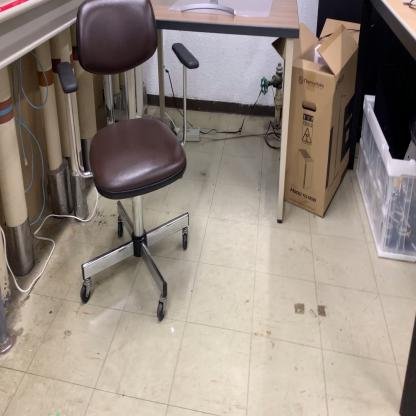chair: (57, 0, 201, 324)
